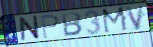3: (84, 8, 103, 36)
B: (61, 11, 83, 37)
M: (101, 6, 130, 35)
N: (18, 15, 41, 42)
P: (39, 14, 60, 39)
V: (124, 3, 145, 31)
